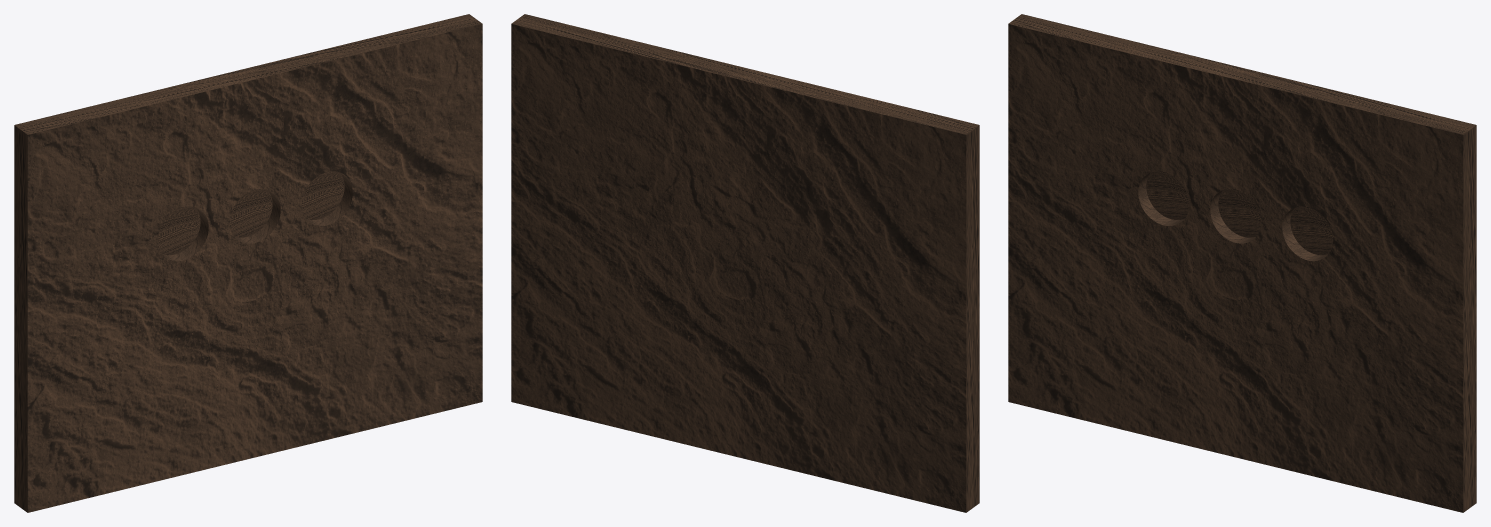
File: Principal_door.FBX
The picture shows the model from 3 angles, left to right: view 1: azimuth 30°, elevation 25°; view 2: azimuth 150°, elevation 25°; view 3: azimuth 330°, elevation 25°; orthographic projection.
Parts seen in each view (by area): view 1: Box001; view 2: Box001; view 3: Box001.
Boxes of the visible parts, x1,y1,x2,y2 form: Box001: [14, 14, 482, 512]; Box001: [511, 14, 979, 512]; Box001: [1008, 14, 1476, 512].
Size of the model in its own units: 63.19 by 50.16 by 3.26.
